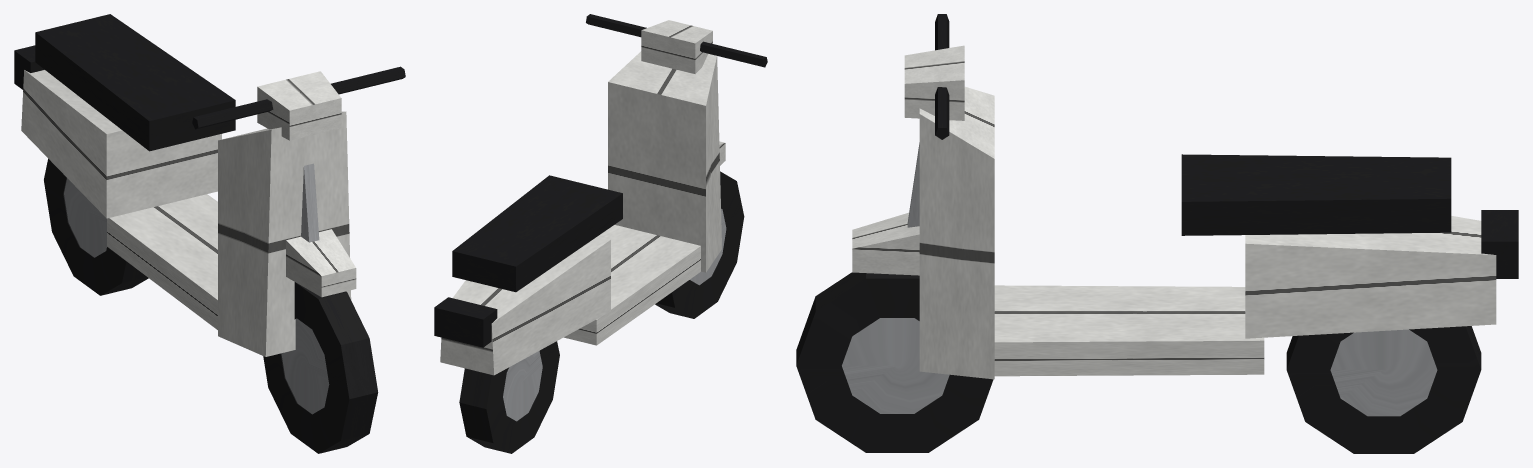
The model's file is SM_Morin_Scooter_LOD1.fbx.
3 renders of one model, left to right at view 1: azimuth 30°, elevation 25°; view 2: azimuth 150°, elevation 25°; view 3: azimuth 270°, elevation 25°, orthographic. The views are drawn at different scales.
Visible parts, largest first — view 1: SM_Morin_Scooter_LOD1; view 2: SM_Morin_Scooter_LOD1; view 3: SM_Morin_Scooter_LOD1.
Boxes of the visible parts, x1,y1,x2,y2 form: SM_Morin_Scooter_LOD1: (14,14,405,453); SM_Morin_Scooter_LOD1: (434,14,767,453); SM_Morin_Scooter_LOD1: (796,14,1518,453).
Size of the model in its own units: 72 by 193 by 113.
1 material, 1 textured.
